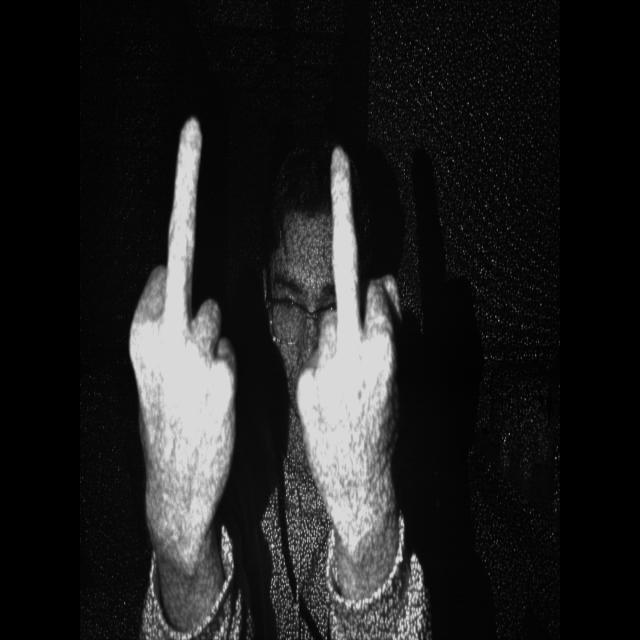FUCK YOU: (121, 96, 256, 568), (290, 127, 417, 553)
